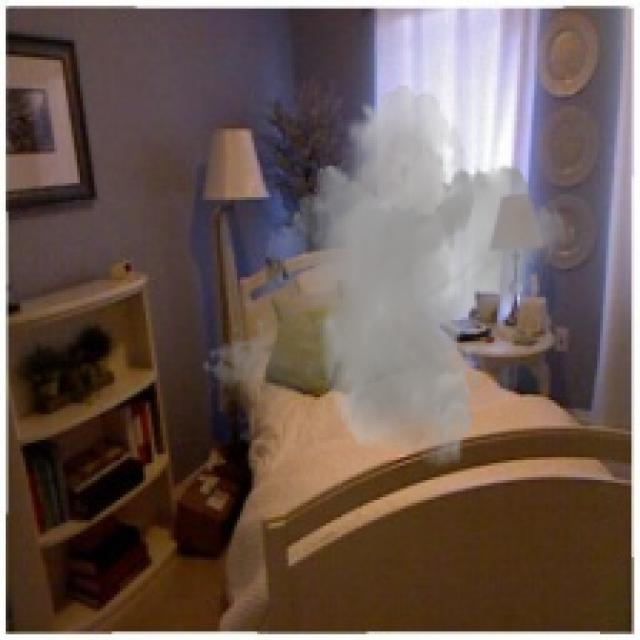smoke: (200, 86, 577, 468)
